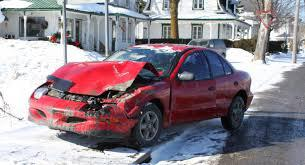Headlight-Damage: (80, 93, 114, 113)
bonnet-dent: (53, 56, 145, 91)
front-bumper-dent: (35, 103, 116, 133)
roof-dent: (132, 45, 202, 54)
